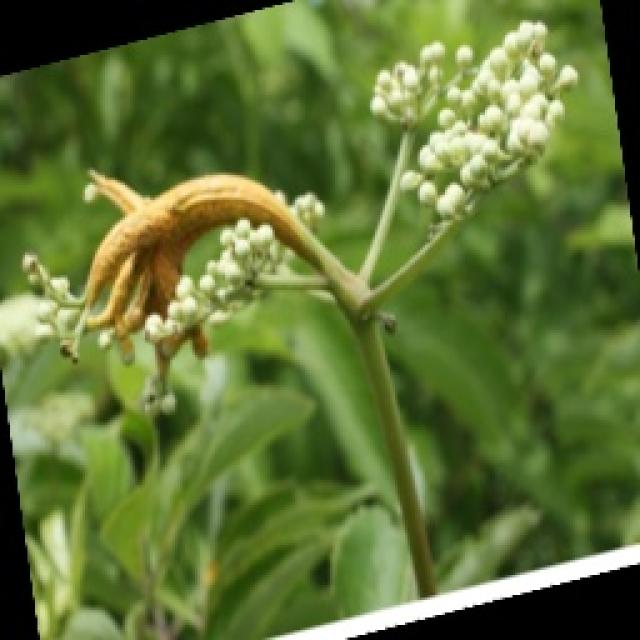Elderberry_rust: (59, 153, 308, 325)
